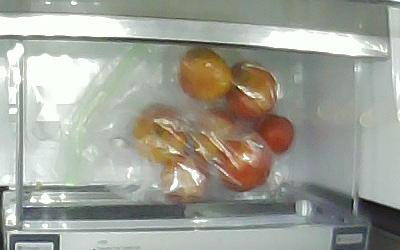prune_vinyl: (218, 128, 272, 191), (131, 104, 186, 163), (189, 110, 241, 166), (226, 63, 276, 121), (179, 47, 231, 102), (161, 155, 209, 203), (254, 114, 294, 154)
